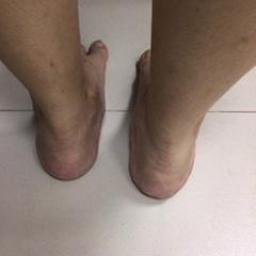Back View -Both Feet-: (15, 16, 227, 209)
